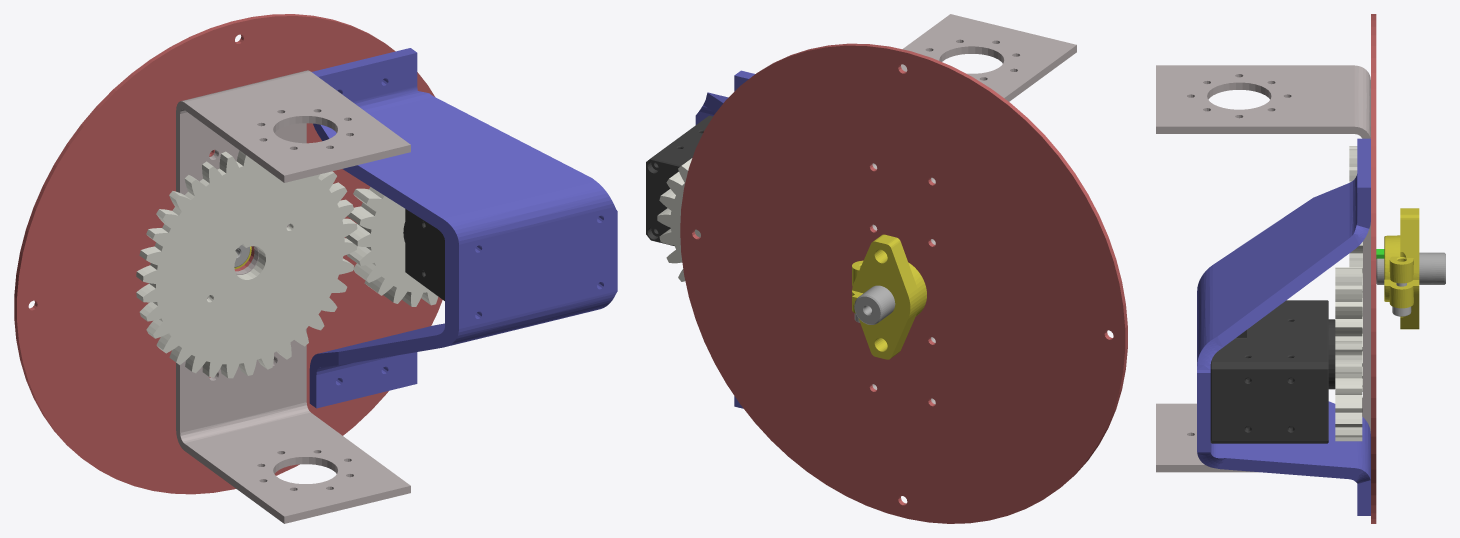
File: arm_base.obj
3 views of the same model, side by side, from view 1: azimuth 30°, elevation 25°; view 2: azimuth 150°, elevation 25°; view 3: azimuth 270°, elevation 25° (orthographic).
Parts seen in each view (by area): view 1: メッシュ フィーチャ1_2, メッシュ フィーチャ1_7, メッシュ フィーチャ1_1, メッシュ フィーチャ1_10, メッシュ フィーチャ1_9, メッシュ フィーチャ1_8; view 2: メッシュ フィーチャ1_2, メッシュ フィーチャ1_1, メッシュ フィーチャ1_4, メッシュ フィーチャ1_8, メッシュ フィーチャ1_9, メッシュ フィーチャ1_6, メッシュ フィーチャ1_7; view 3: メッシュ フィーチャ1_7, メッシュ フィーチャ1_1, メッシュ フィーチャ1_8, メッシュ フィーチャ1_9, メッシュ フィーチャ1_4, メッシュ フィーチャ1_2, メッシュ フィーチャ1_6, メッシュ フィーチャ1_10.
Boxes of the visible parts, x1,y1,x2,y2 form: メッシュ フィーチャ1_2: (14,14,442,494); メッシュ フィーチャ1_7: (309,48,617,408); メッシュ フィーチャ1_1: (176,70,410,523); メッシュ フィーチャ1_10: (136,150,357,378); メッシュ フィーチャ1_9: (345,187,438,306); メッシュ フィーチャ1_8: (403,209,444,300); メッシュ フィーチャ1_2: (680,43,1127,523); メッシュ フィーチャ1_1: (872,14,1076,404); メッシュ フィーチャ1_4: (852,234,926,359); メッシュ フィーチャ1_8: (646,115,712,245); メッシュ フィーチャ1_9: (657,158,700,281); メッシュ フィーチャ1_6: (854,285,895,324); メッシュ フィーチャ1_7: (695,70,754,408); メッシュ フィーチャ1_7: (1197,138,1370,515); メッシュ フィーチャ1_1: (1156,65,1370,472); メッシュ フィーチャ1_8: (1210,300,1335,443); メッシュ フィーチャ1_9: (1335,267,1362,441); メッシュ フィーチャ1_4: (1384,208,1419,329); メッシュ フィーチャ1_2: (1371,14,1376,523); メッシュ フィーチャ1_6: (1376,252,1445,284); メッシュ フィーチャ1_10: (1349,146,1362,391).
Bounding box in the file's own units: 219 × 190 × 108.
